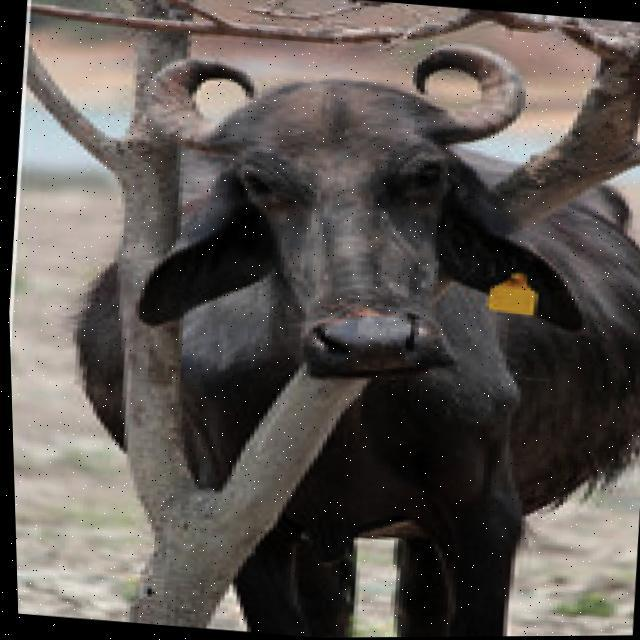Buffalo: (38, 9, 640, 640)
